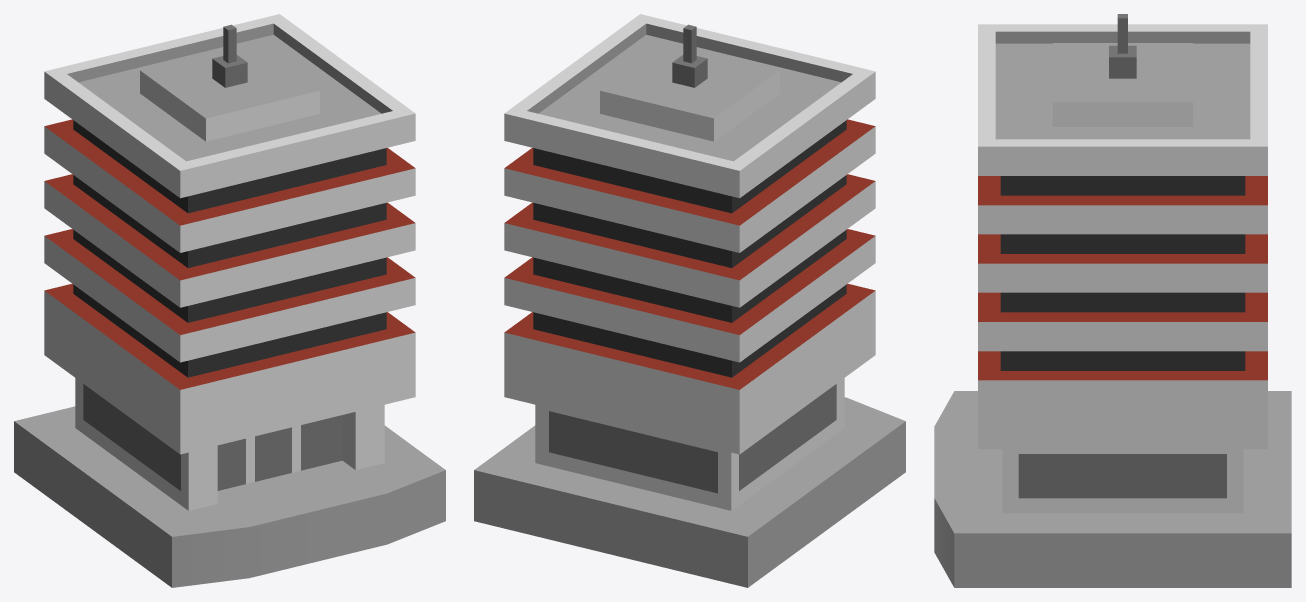
File: house_09.glb
3 views of the same model, side by side, from view 1: azimuth 30°, elevation 25°; view 2: azimuth 150°, elevation 25°; view 3: azimuth 270°, elevation 25° (orthographic). The views are drawn at different scales.
Parts seen in each view (by area): view 1: house_09; view 2: house_09; view 3: house_09.
Part boxes in pixels (box(x1,y1,x2,y2)): house_09: box(14, 14, 445, 587); house_09: box(474, 14, 905, 587); house_09: box(934, 14, 1291, 587).
Size of the model in its own units: 2.14 by 3.5 by 2.27.
